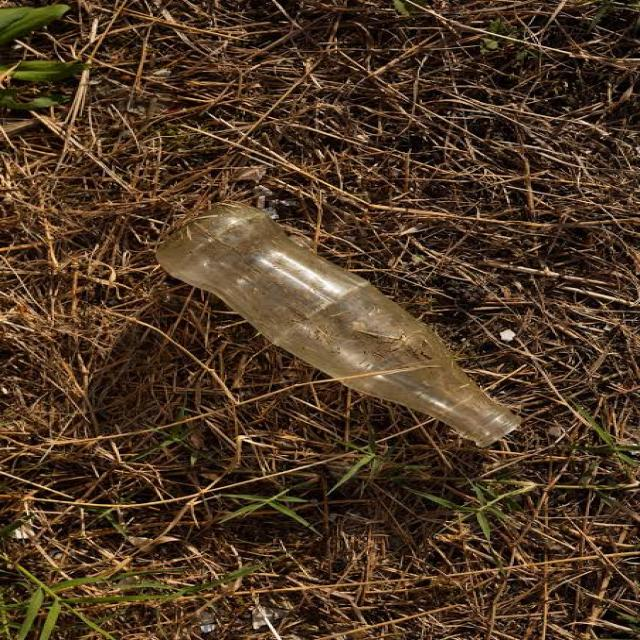plastic bottle: (143, 192, 530, 452)
